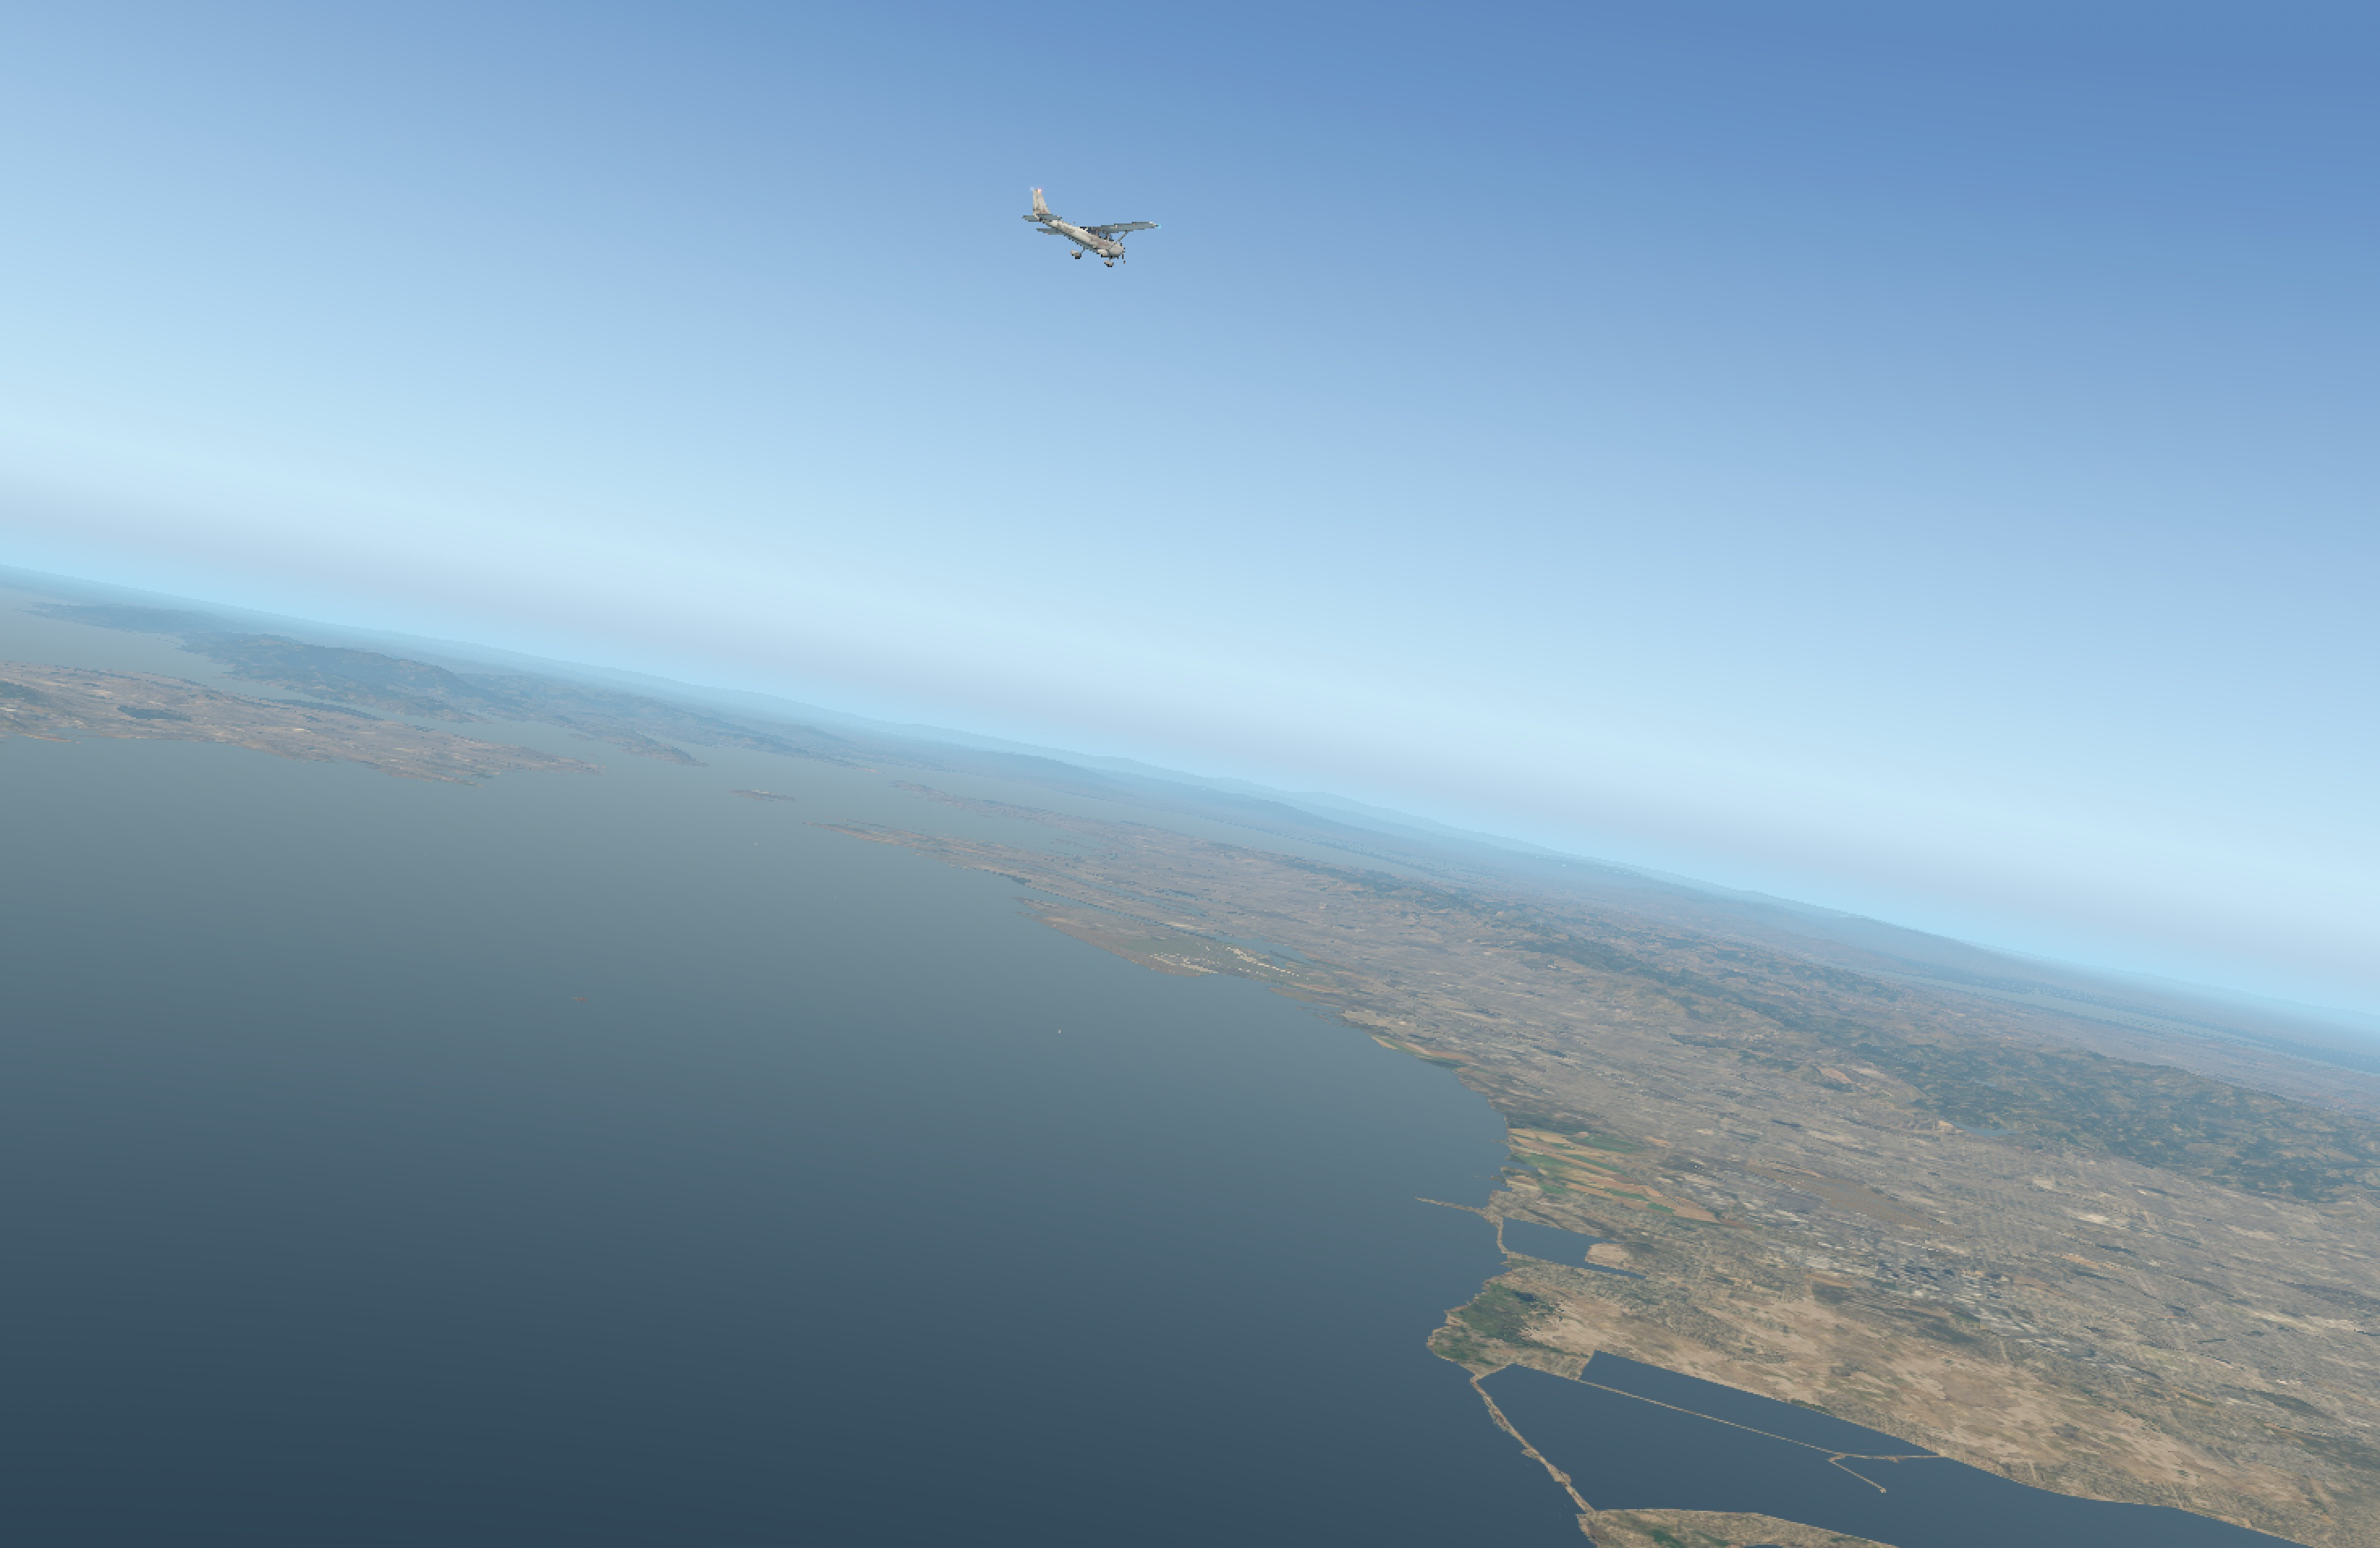aircraft: (1037, 217, 1157, 262)
